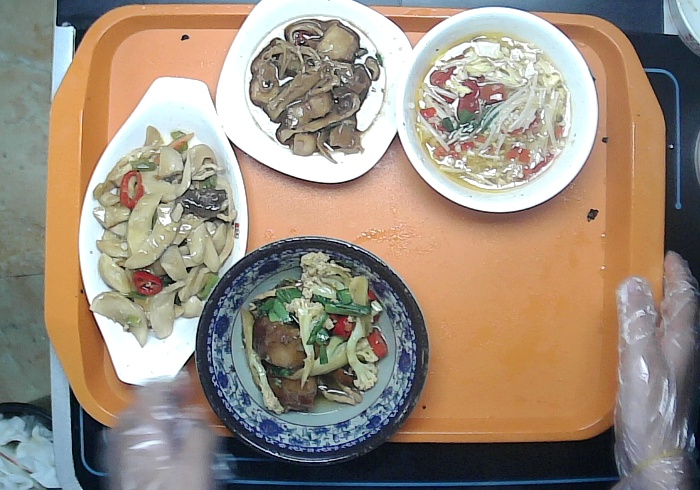ZNLD-Qing_Hua_Wan: (193, 233, 430, 469)
ZNLD-Si_Fang_Wan: (214, 1, 414, 184)
ZNLD-Tang_Wan: (394, 4, 600, 214)
ZNLD-Yu_Pan: (76, 74, 249, 387)
